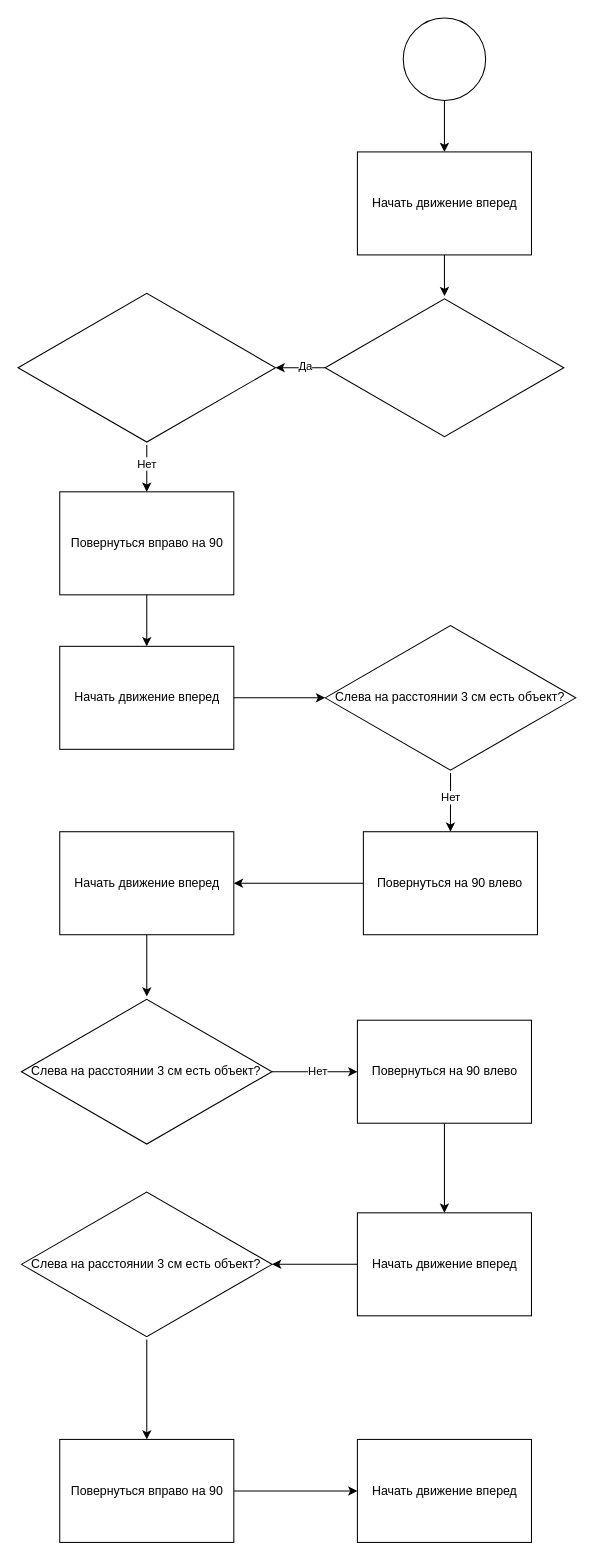
The diagram is 594 pixels wide and 1560 high, and some of its shapes have lost their labels. Here are the shapes that lost their labels. From the top down, the centre of each, then its label:
the point at 444,58: Начало
the point at 146,367: Справа на расстоянии 3см есть объект?
the point at 444,367: Впереди на расстоянии 3см есть объект?
